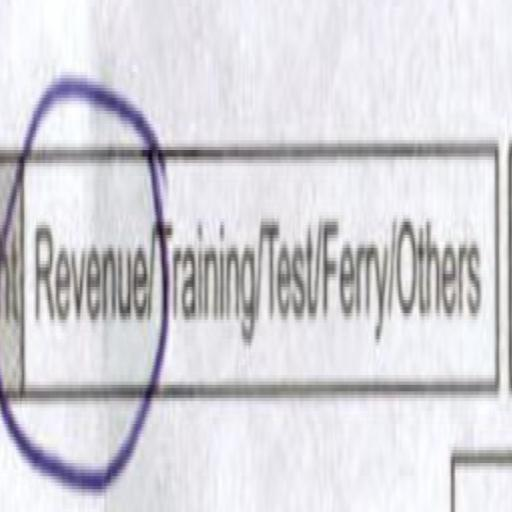check: (33, 31, 155, 512)
